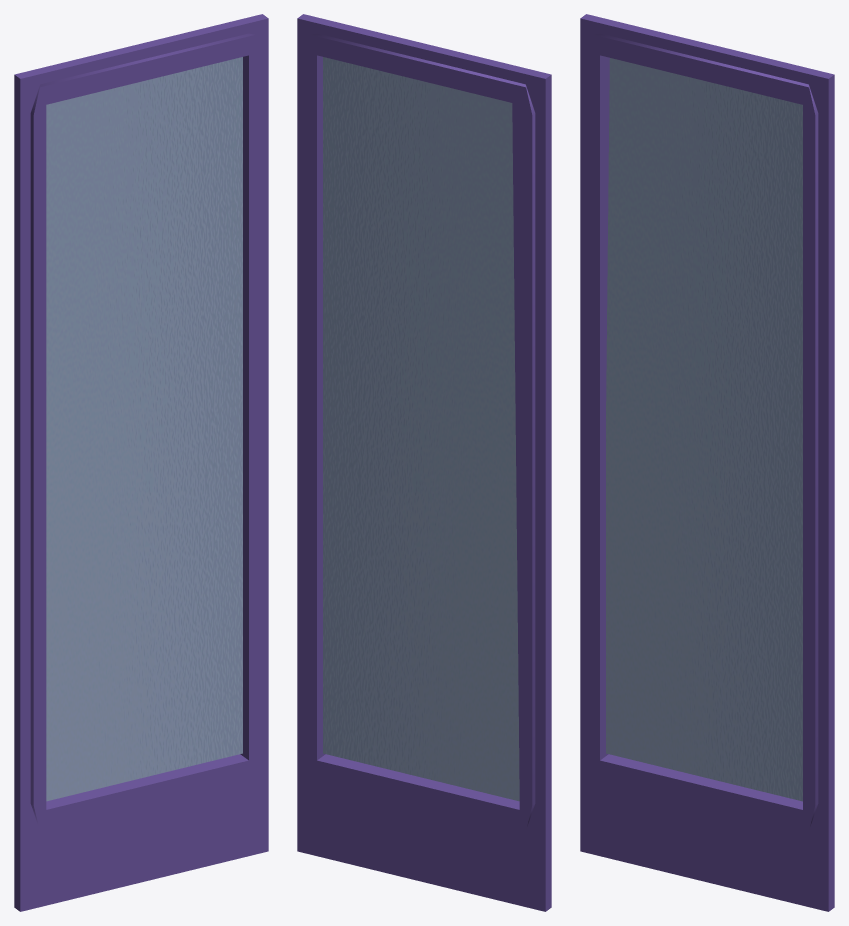
The model's file is long window.fbx.
The picture shows the model from 3 angles, left to right: view 1: azimuth 30°, elevation 25°; view 2: azimuth 150°, elevation 25°; view 3: azimuth 330°, elevation 25°; orthographic projection.
Visible parts, largest first — view 1: (%ignore), wall-window-square; view 2: (%ignore), wall-window-square; view 3: (%ignore), wall-window-square.
Part boxes in pixels (left/top/right/bottom): (%ignore): left=46, top=57, right=242, bottom=801; wall-window-square: left=14, top=14, right=268, bottom=911; (%ignore): left=323, top=57, right=519, bottom=801; wall-window-square: left=297, top=14, right=551, bottom=911; (%ignore): left=606, top=58, right=802, bottom=801; wall-window-square: left=580, top=14, right=834, bottom=911.
Bounding box in the file's own units: 238 × 762 × 20.
